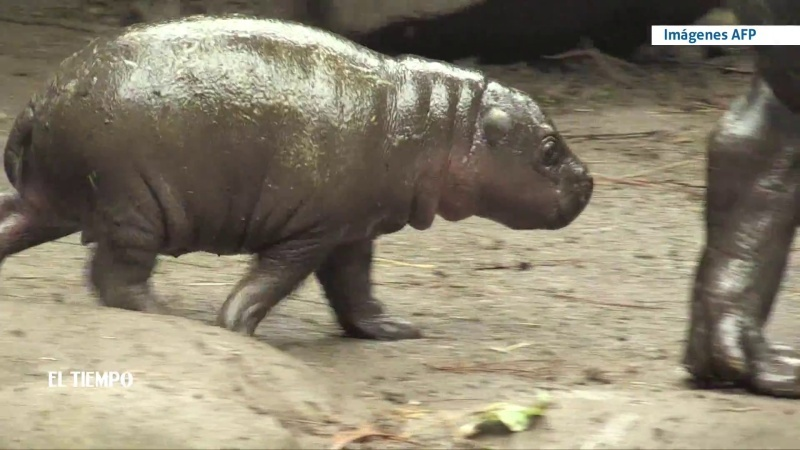hipopotamo: (2, 11, 606, 353)
